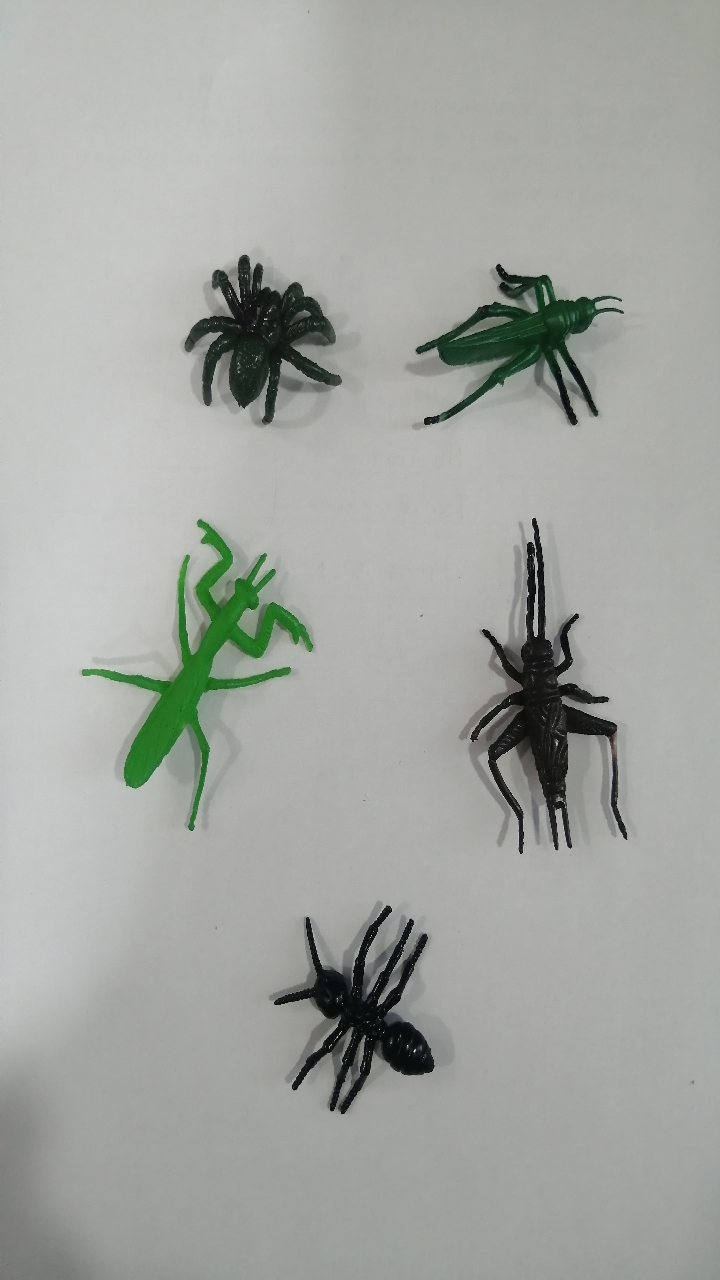intruso: (46, 482, 326, 849), (423, 495, 651, 891), (235, 866, 478, 1134), (392, 200, 628, 459), (154, 208, 374, 471)
